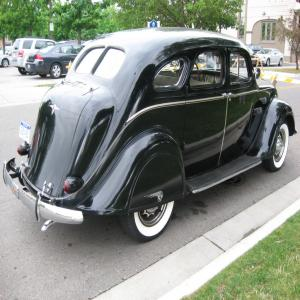Vehicle-registration-plate: (20, 120, 31, 144)
